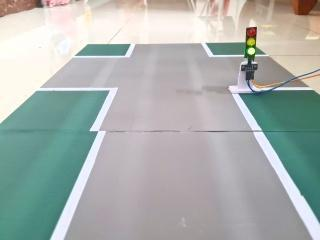green: (241, 20, 260, 69)
